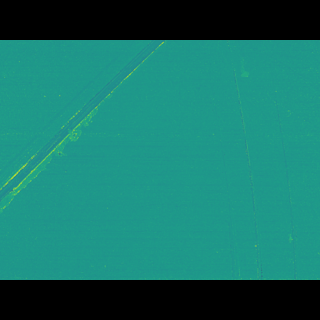Loch: (0, 68, 171, 202), (202, 89, 247, 249), (227, 92, 265, 250), (270, 99, 302, 250)
